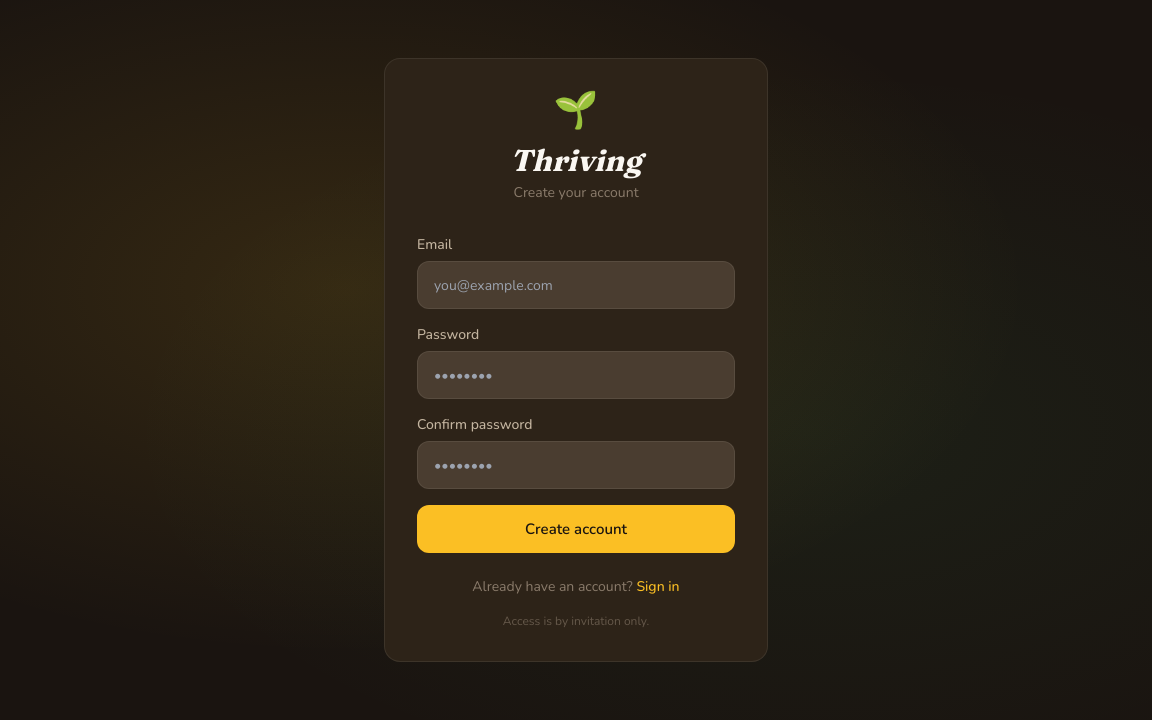
Scenario: SignupPage › shows error when email is not on the allowlist
The width and height of the screenshot is (1152, 720).
Type "stranger@example.com" into the field labelled "Email" at (576, 285), box [417,261,735,309]
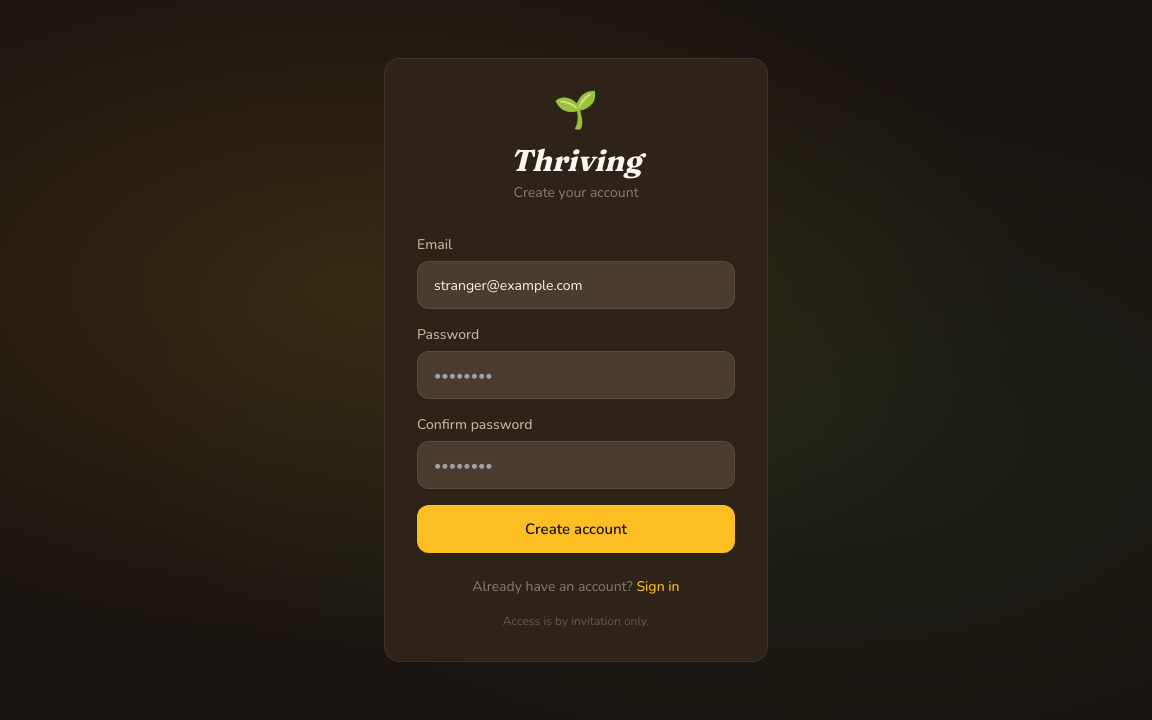
Type "abc123" into the password field labelled "Password" at (576, 375), box [417,351,735,399]
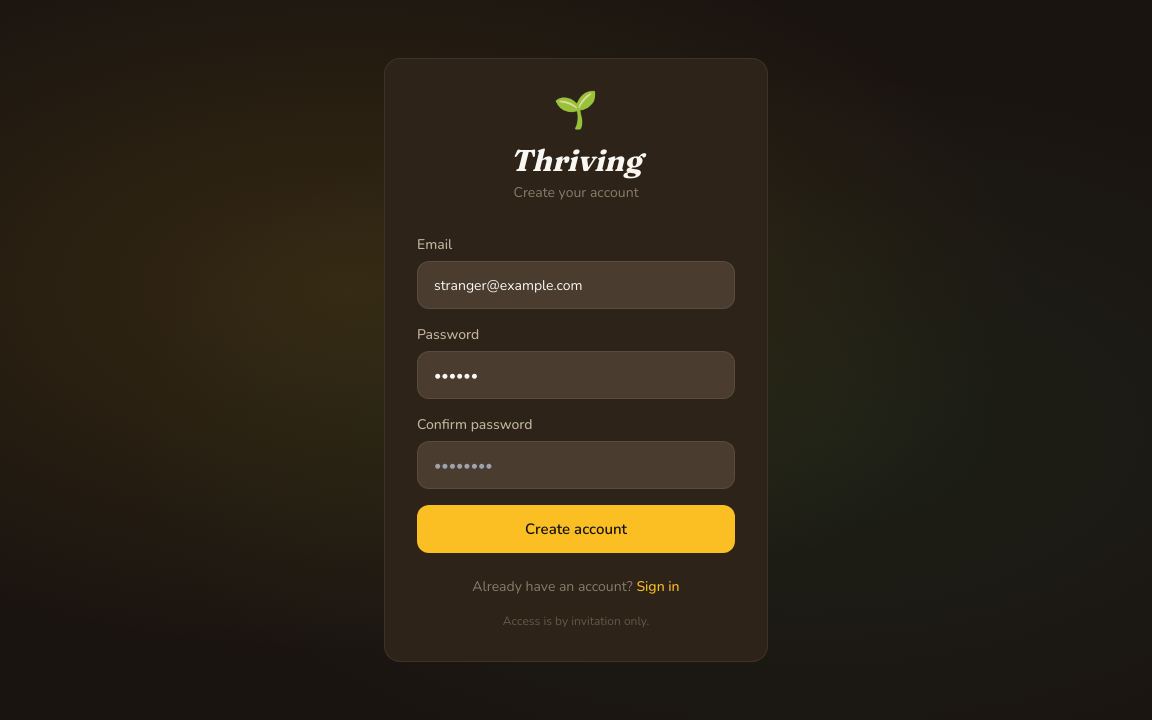
Type "abc123" into the password field labelled "Confirm password" at (576, 465), box [417,441,735,489]
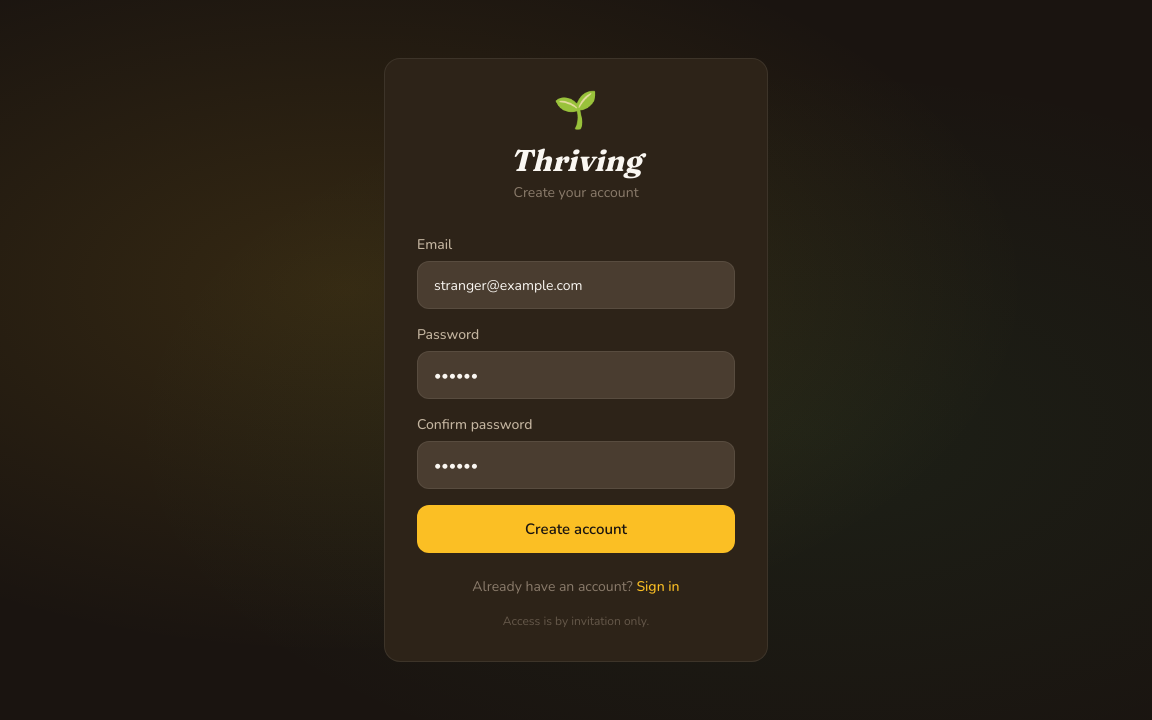
Submit the form "Email Password Confirm password Create account", box [417,235,735,553]
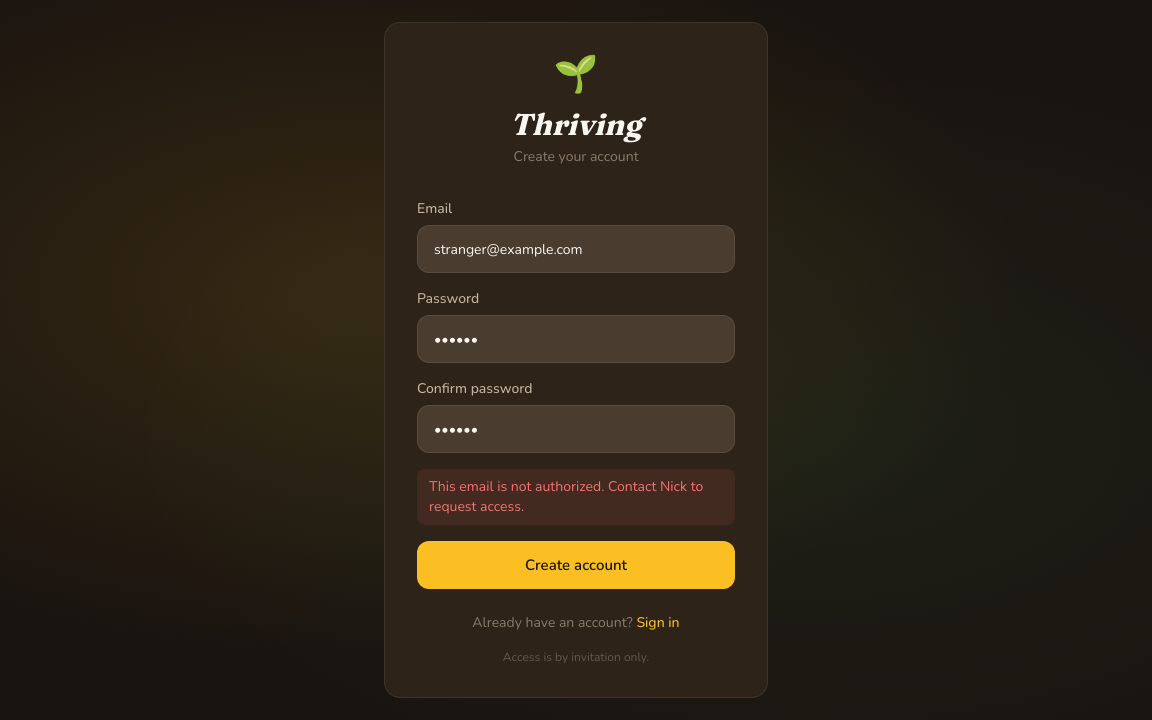
Result: the text "not authorized" is shown at [429,477,703,516]
